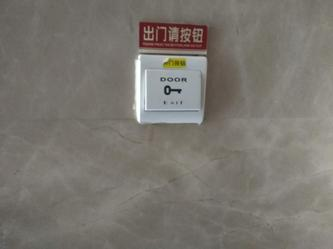switch: (143, 69, 204, 112)
